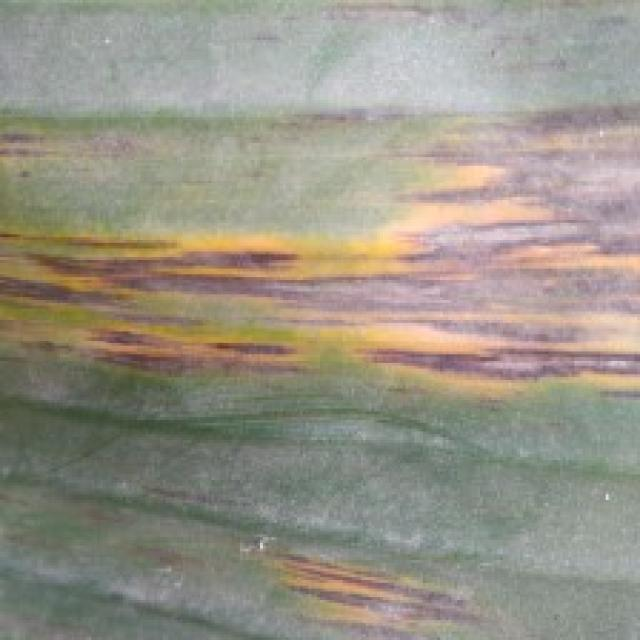Early_leaf_spot: (0, 88, 640, 430), (238, 520, 501, 636), (281, 0, 637, 57), (0, 117, 157, 198)
